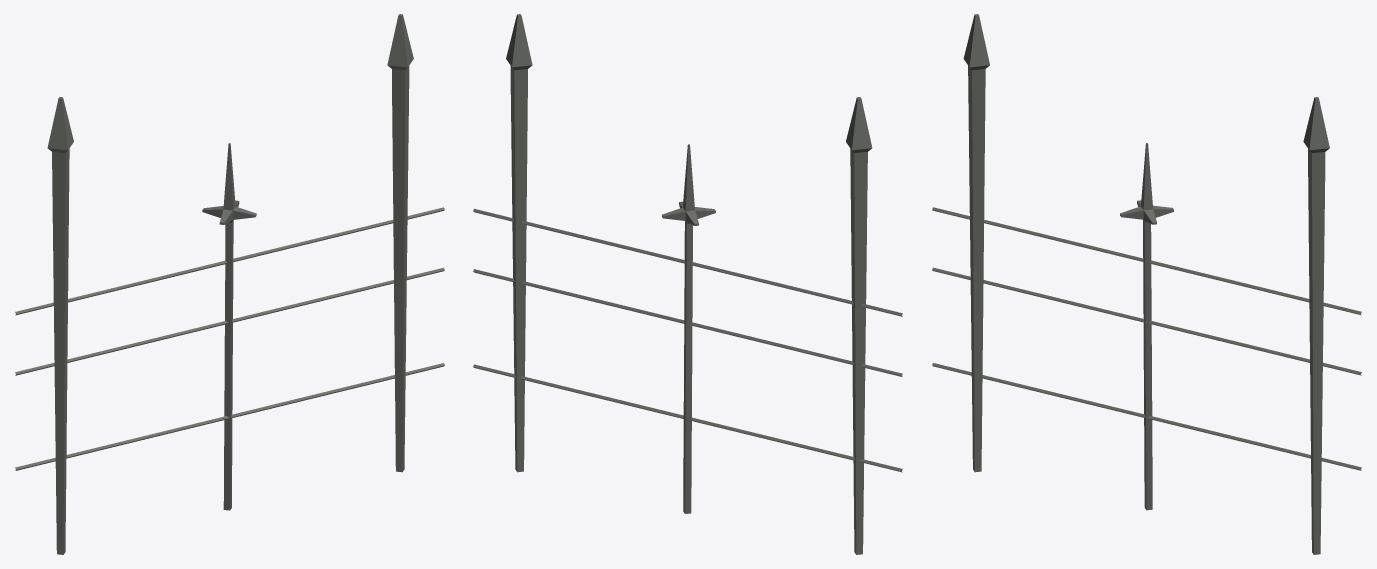
Rendered from EA_Exterior_Fence_Element_Clean_Seam_02c.gltf.
3 views of the same model, side by side, from view 1: azimuth 30°, elevation 25°; view 2: azimuth 150°, elevation 25°; view 3: azimuth 330°, elevation 25° (orthographic).
Parts seen in each view (by area): view 1: EA_Exterior_Fence_Element_Clean_Seam_02c; view 2: EA_Exterior_Fence_Element_Clean_Seam_02c; view 3: EA_Exterior_Fence_Element_Clean_Seam_02c.
Part boxes in pixels (bbox=[...]): EA_Exterior_Fence_Element_Clean_Seam_02c: bbox=[15, 14, 444, 554]; EA_Exterior_Fence_Element_Clean_Seam_02c: bbox=[473, 14, 902, 554]; EA_Exterior_Fence_Element_Clean_Seam_02c: bbox=[932, 14, 1361, 554].
Bounding box in the file's own units: 4.76 × 4.84 × 0.3933.
1 material, 1 textured.
